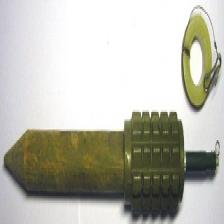POMZ2: (5, 108, 223, 224)
